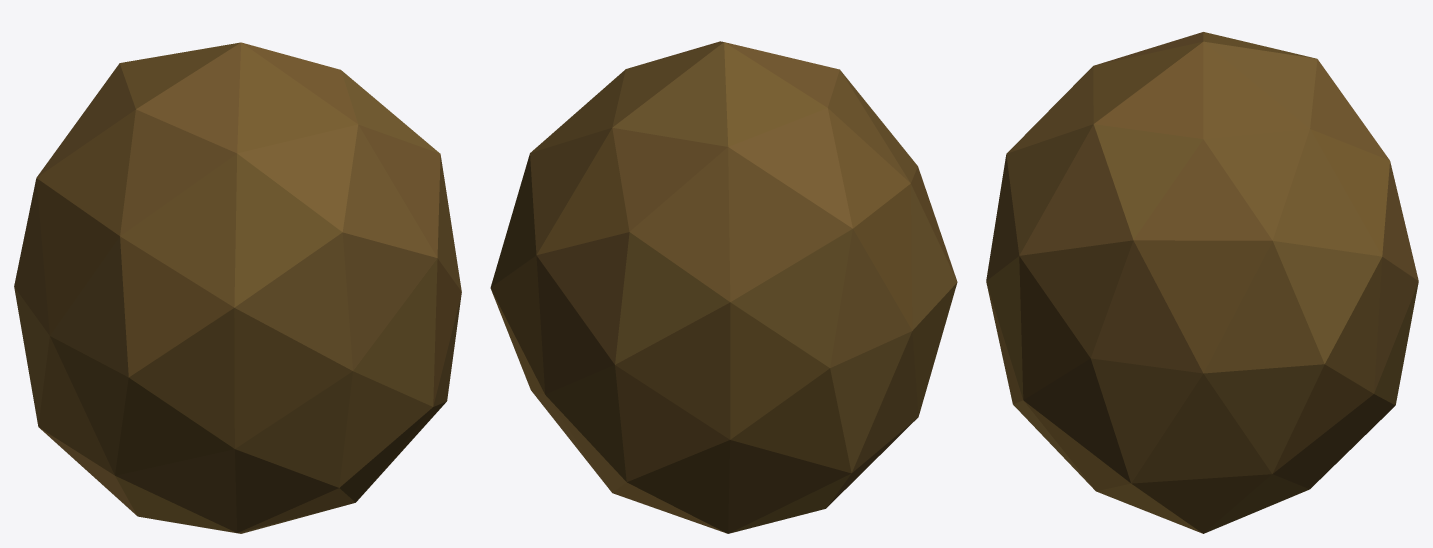
Rendered from coconut.glb.
The picture shows the model from 3 angles, left to right: view 1: azimuth 30°, elevation 25°; view 2: azimuth 150°, elevation 25°; view 3: azimuth 270°, elevation 25°; orthographic projection. The views are drawn at different scales.
Visible parts, largest first — view 1: coconut_solid; view 2: coconut_solid; view 3: coconut_solid.
Part boxes in pixels (left/top/right/bottom): coconut_solid: left=14, top=42, right=461, bottom=533; coconut_solid: left=490, top=41, right=957, bottom=533; coconut_solid: left=986, top=32, right=1418, bottom=533.
Bounding box in the file's own units: 0.253 × 0.3234 × 0.2532.
